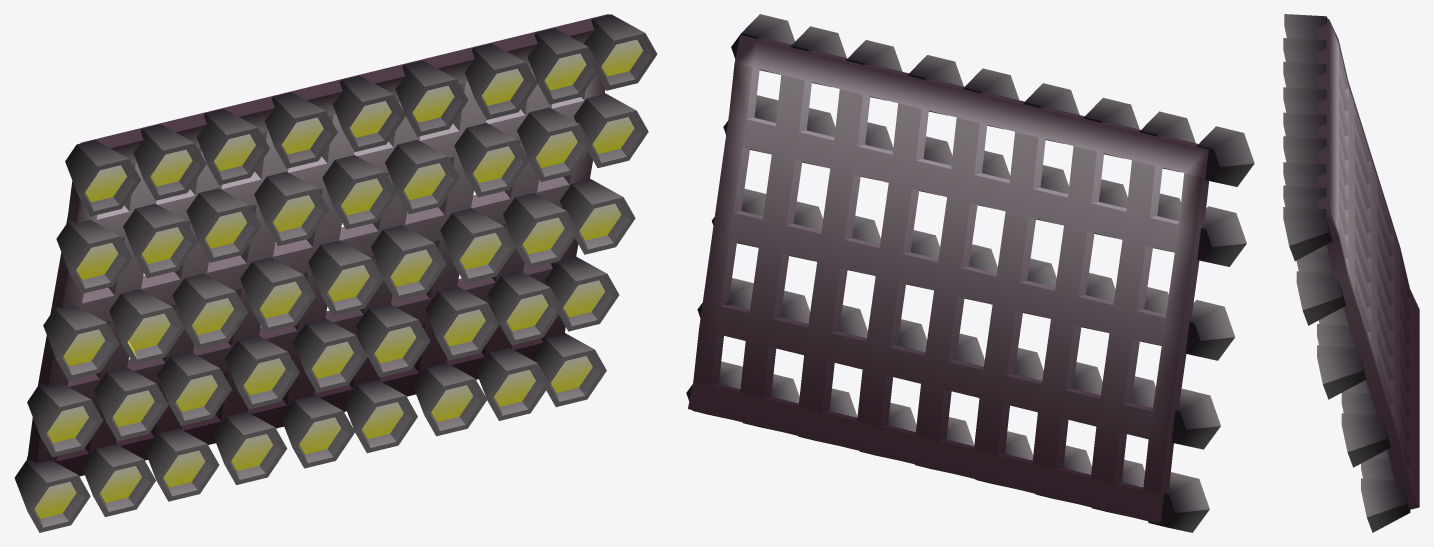
Rendered from Lights.fbx.
3 renders of one model, left to right at view 1: azimuth 30°, elevation 25°; view 2: azimuth 150°, elevation 25°; view 3: azimuth 270°, elevation 25°, orthographic. The views are drawn at different scales.
Visible parts, largest first — view 1: Lights; view 2: Lights; view 3: Lights.
Part boxes in pixels (bbox=[...]): Lights: bbox=[14, 14, 657, 532]; Lights: bbox=[686, 14, 1254, 532]; Lights: bbox=[1283, 14, 1419, 532].
Bounding box in the file's own units: 21.68 × 14.66 × 5.76.
1 material, 1 textured.
